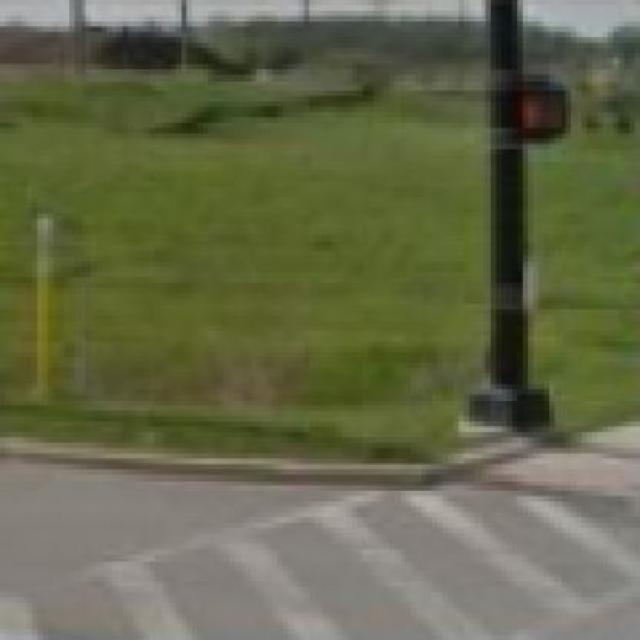crosswalk: (5, 485, 640, 640)
